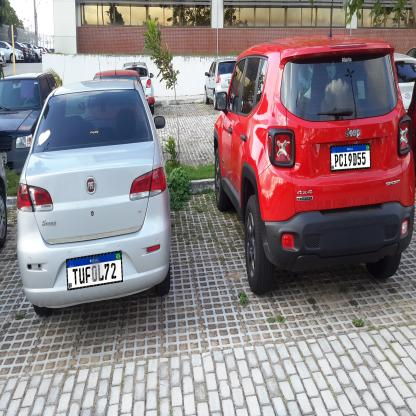PlacaM: (66, 250, 123, 290), (330, 143, 371, 171)
